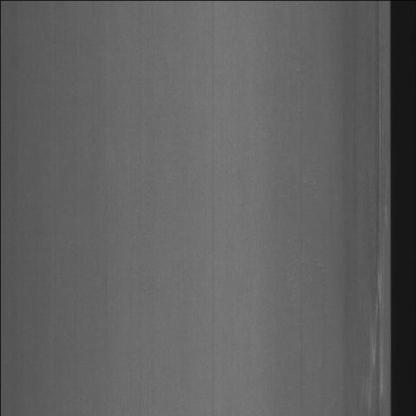silk_spot: (368, 18, 388, 408)
